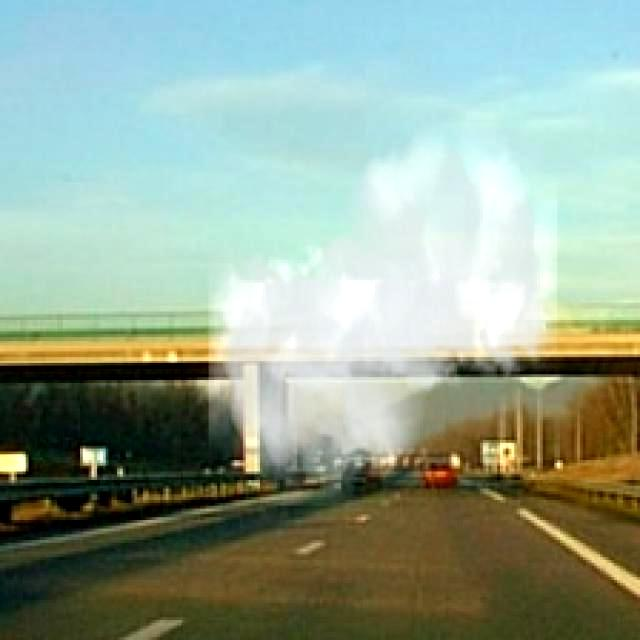no_helmet: (209, 123, 557, 506)
